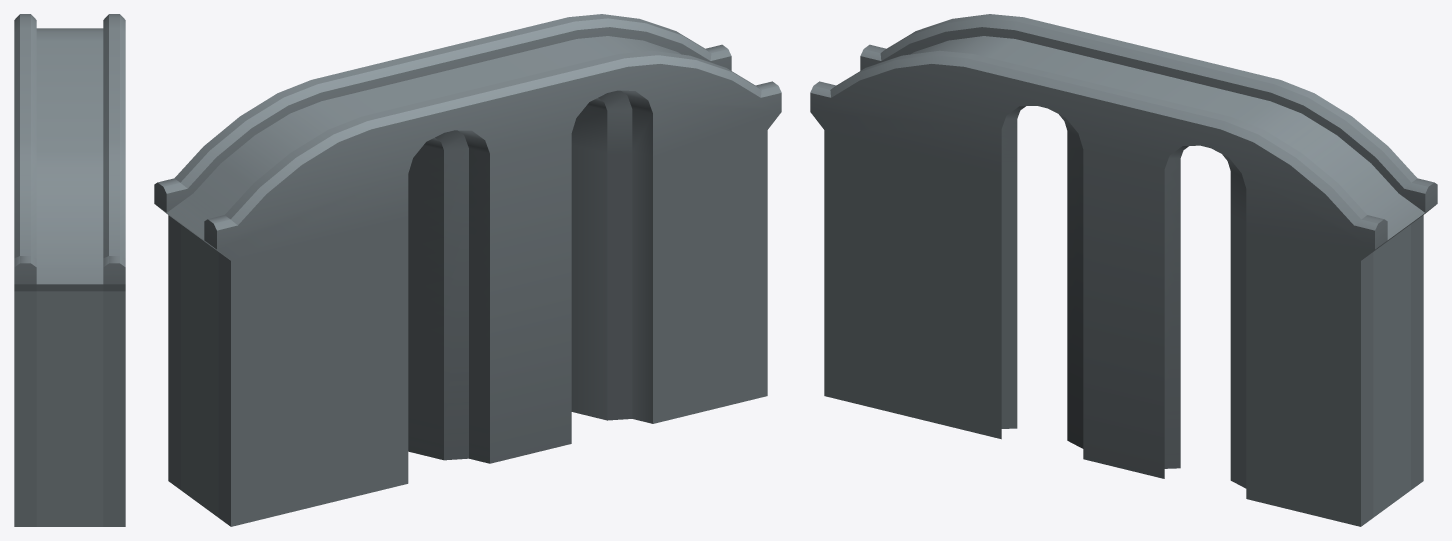
Rendered from building_bridge_B.gltf.
3 renders of one model, left to right at view 1: azimuth 30°, elevation 25°; view 2: azimuth 150°, elevation 25°; view 3: azimuth 270°, elevation 25°, orthographic. The views are drawn at different scales.
Parts seen in each view (by area): view 1: building_bridge_B; view 2: building_bridge_B; view 3: building_bridge_B.
Part boxes in pixels (left/top/right/bottom): building_bridge_B: left=14, top=14, right=125, bottom=526; building_bridge_B: left=154, top=14, right=781, bottom=526; building_bridge_B: left=810, top=14, right=1437, bottom=526.
Bounding box in the file's own units: 1.33 × 1.25 × 1.92.
1 material, 1 textured.
